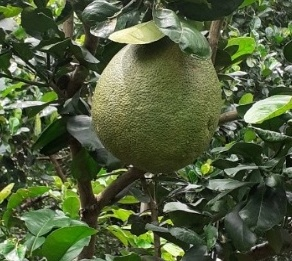Buoi: (89, 33, 224, 173)
